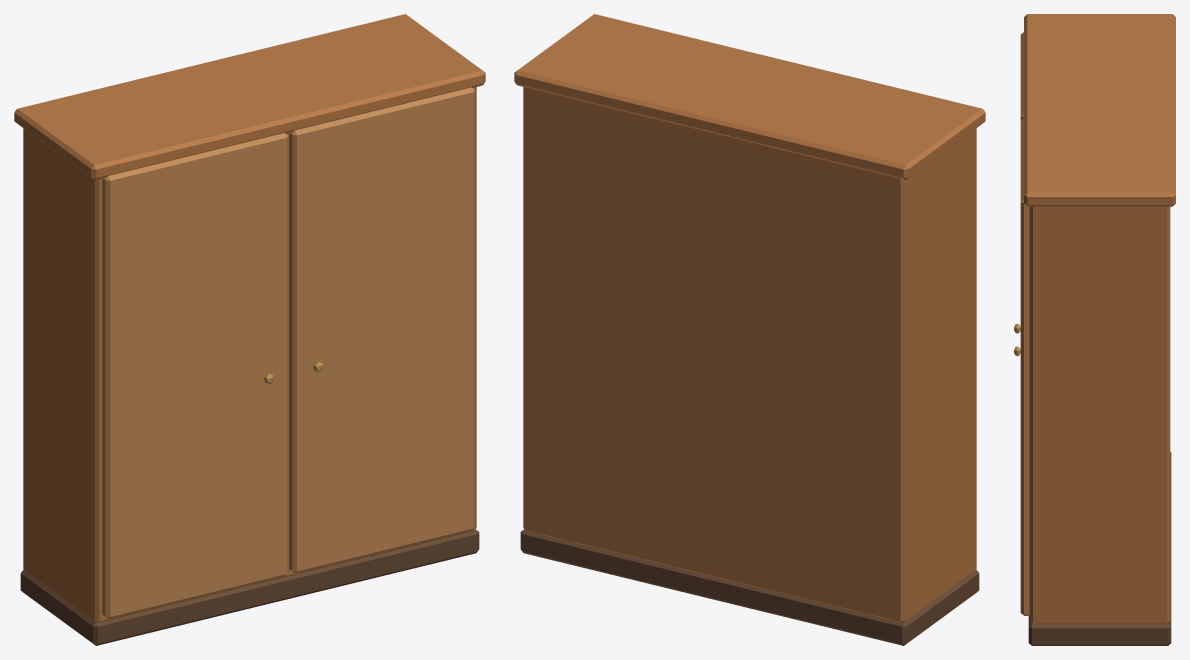
Rendered from wardrobe.glb.
The picture shows the model from 3 angles, left to right: view 1: azimuth 30°, elevation 25°; view 2: azimuth 150°, elevation 25°; view 3: azimuth 270°, elevation 25°; orthographic projection. The views are drawn at different scales.
Parts seen in each view (by area): view 1: wardrobe_door_-1, wardrobe_door_1, wardrobe_body, wardrobe_cap, wardrobe_plinth; view 2: wardrobe_body, wardrobe_cap, wardrobe_plinth; view 3: wardrobe_body, wardrobe_cap, wardrobe_door_1, wardrobe_plinth, wardrobe_door_-1.
Boxes of the visible parts, box(x1,y1,x2,y2) form: wardrobe_door_-1: box(102, 133, 288, 618); wardrobe_door_1: box(289, 87, 475, 573); wardrobe_body: box(23, 87, 476, 622); wardrobe_cap: box(14, 14, 485, 179); wardrobe_plinth: box(20, 529, 479, 645); wardrobe_body: box(523, 87, 976, 622); wardrobe_cap: box(514, 14, 985, 179); wardrobe_plinth: box(520, 529, 979, 645); wardrobe_body: box(1029, 206, 1170, 623); wardrobe_cap: box(1024, 14, 1175, 206); wardrobe_door_1: box(1020, 118, 1029, 615); wardrobe_plinth: box(1028, 451, 1171, 645); wardrobe_door_-1: box(1020, 32, 1023, 120).
Size of the model in its own units: 1.92 by 2.25 by 0.7249.
